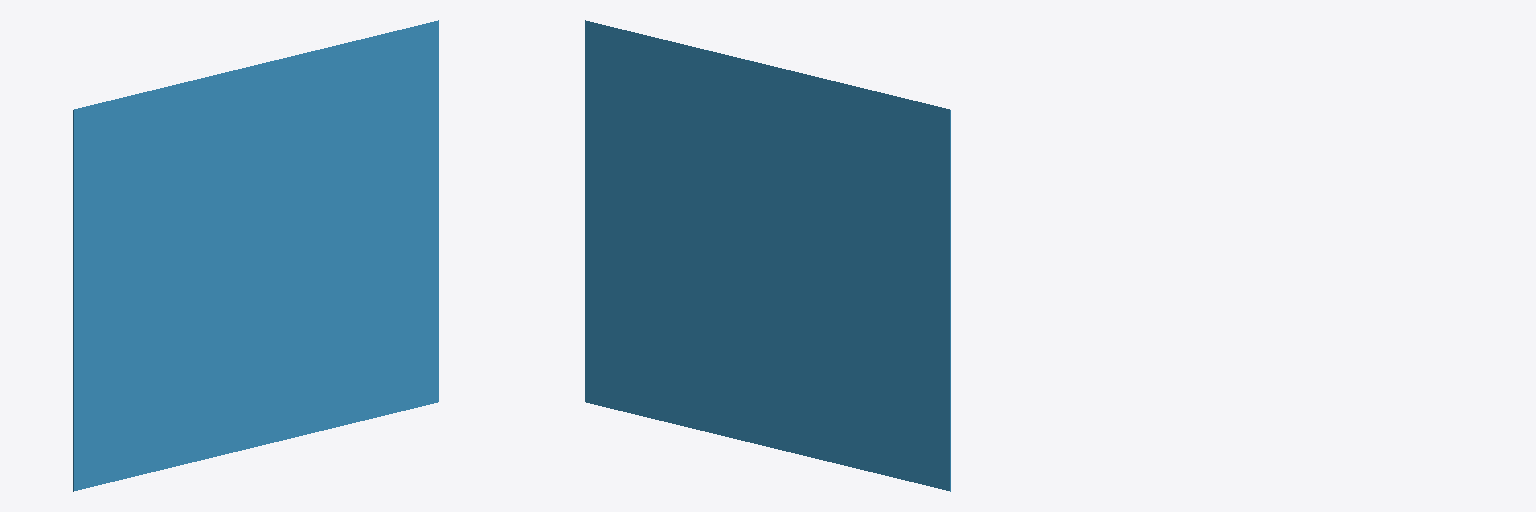
robot.urdf — ground_skeleton:
<?xml version="1.0"?>
<robot name="ground_skeleton">
    <link name="world" />
    <link name="ground_link">
        <inertial>
            <mass value="1.0" />
            <origin xyz="0 0 0" rpy="0 0 0" />
            <inertia ixx="1.0" ixy="0" ixz="0" iyy="1.0" iyz="0" izz="1.0" />
        </inertial>
        <visual>
            <origin xyz="0 -0.95 0" rpy="0 -0 0" />
            <geometry>
                <box size="1000 0.05 1000" />
            </geometry>
        </visual>
        <collision>
            <origin xyz="0 -0.95 0" rpy="0 -0 0" />
            <geometry>
                <box size="1000 0.05 1000" />
            </geometry>
        </collision>
    </link>
    <joint name="ground_joint" type="fixed">
        <origin xyz="0 0 0" rpy="0 0 0" />
        <parent link="world" />
        <child link="ground_link" />
    </joint>
</robot>

--- Render facts (derived) ---
The picture shows the robot from 3 angles, left to right: view 1: azimuth 30°, elevation 25°; view 2: azimuth 150°, elevation 25°; view 3: azimuth 270°, elevation 25°; orthographic projection.
Model ground_skeleton with 2 links and 1 joints (1 fixed), rooted at world, posed every joint at zero.
Visible links, largest first — view 1: ground_link; view 2: ground_link; view 3: none.
Link boxes in pixels (x1,y1,x2,y2): ground_link: (73, 20, 438, 491); ground_link: (585, 20, 950, 491).
Bounding box of the posed robot: 1000 × 0.05 × 1000 m (x, y, z).
Geometry: primitives only (box / cylinder / sphere), no mesh files.